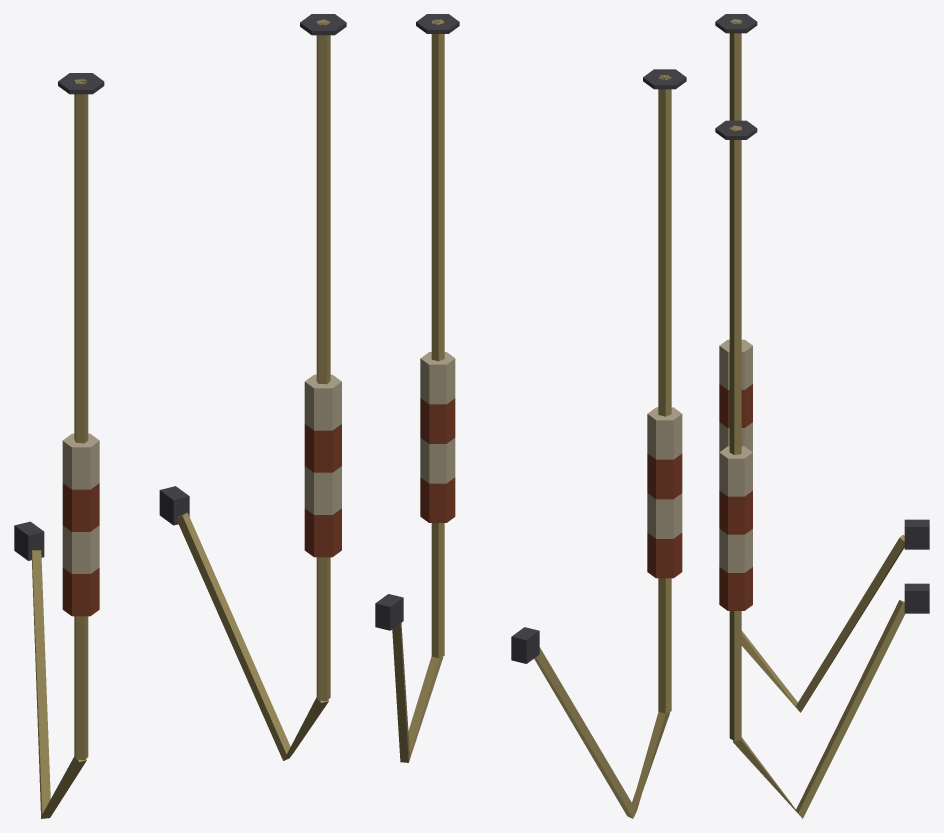
File: BellRopes.fbx
The picture shows the model from 3 angles, left to right: view 1: azimuth 30°, elevation 25°; view 2: azimuth 150°, elevation 25°; view 3: azimuth 270°, elevation 25°; orthographic projection. The views are drawn at different scales.
Parts seen in each view (by area): view 1: BellRopes; view 2: BellRopes; view 3: BellRopes.
Boxes of the visible parts, x1,y1,x2,y2 form: BellRopes: [14, 14, 346, 818]; BellRopes: [375, 14, 686, 818]; BellRopes: [715, 14, 929, 818].
Bounding box in the file's own units: 0.6866 × 1.81 × 0.51.
